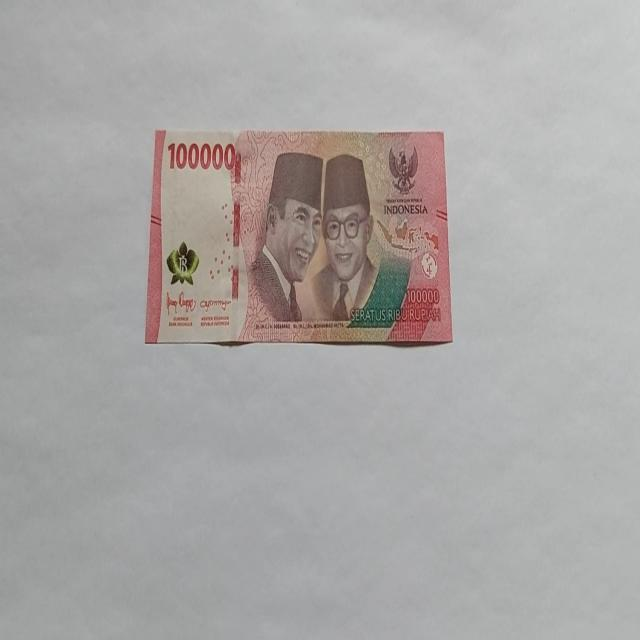seratus ribu rupiah: (144, 126, 453, 347), (240, 149, 324, 339)
